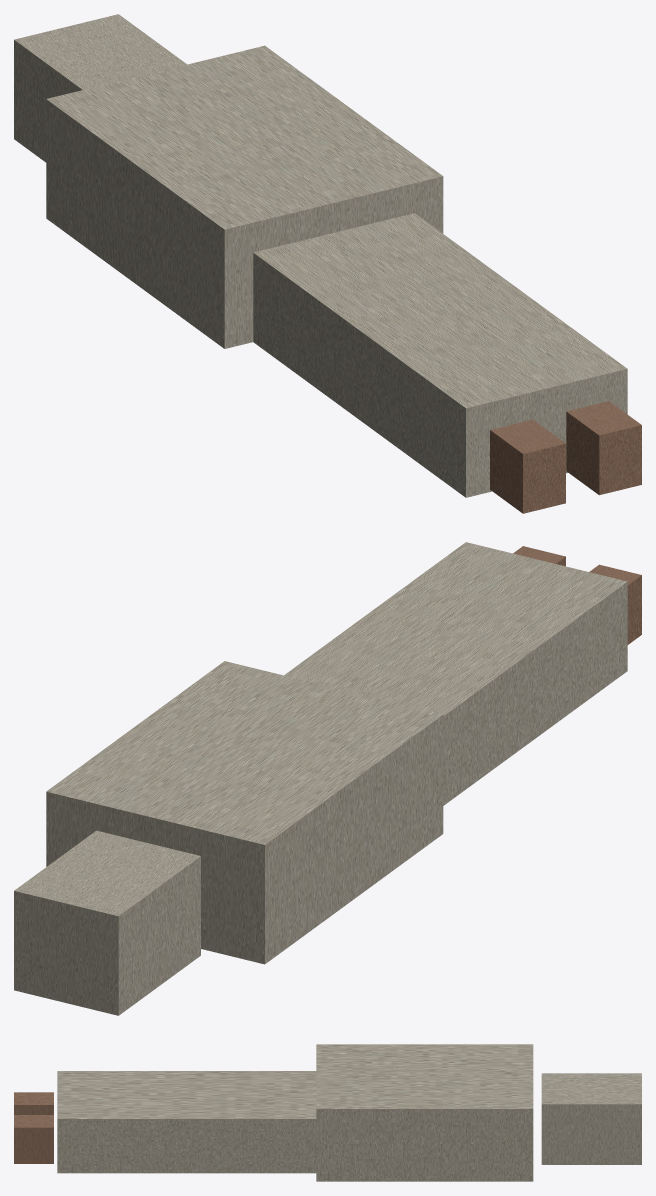
File: covered_body.glb
3 views of the same model, one above another, from view 1: azimuth 30°, elevation 25°; view 2: azimuth 150°, elevation 25°; view 3: azimuth 270°, elevation 25° (orthographic). The views are drawn at different scales.
Visible parts, largest first — view 1: synthetic; view 2: synthetic; view 3: synthetic.
Boxes of the visible parts, x1,y1,x2,y2 form: synthetic: (14, 14, 641, 513); synthetic: (14, 542, 641, 1015); synthetic: (14, 1044, 641, 1181).
Bounding box in the file's own units: 0.598 × 0.312 × 2.44.
Materials: 1 (1 with a texture image).
